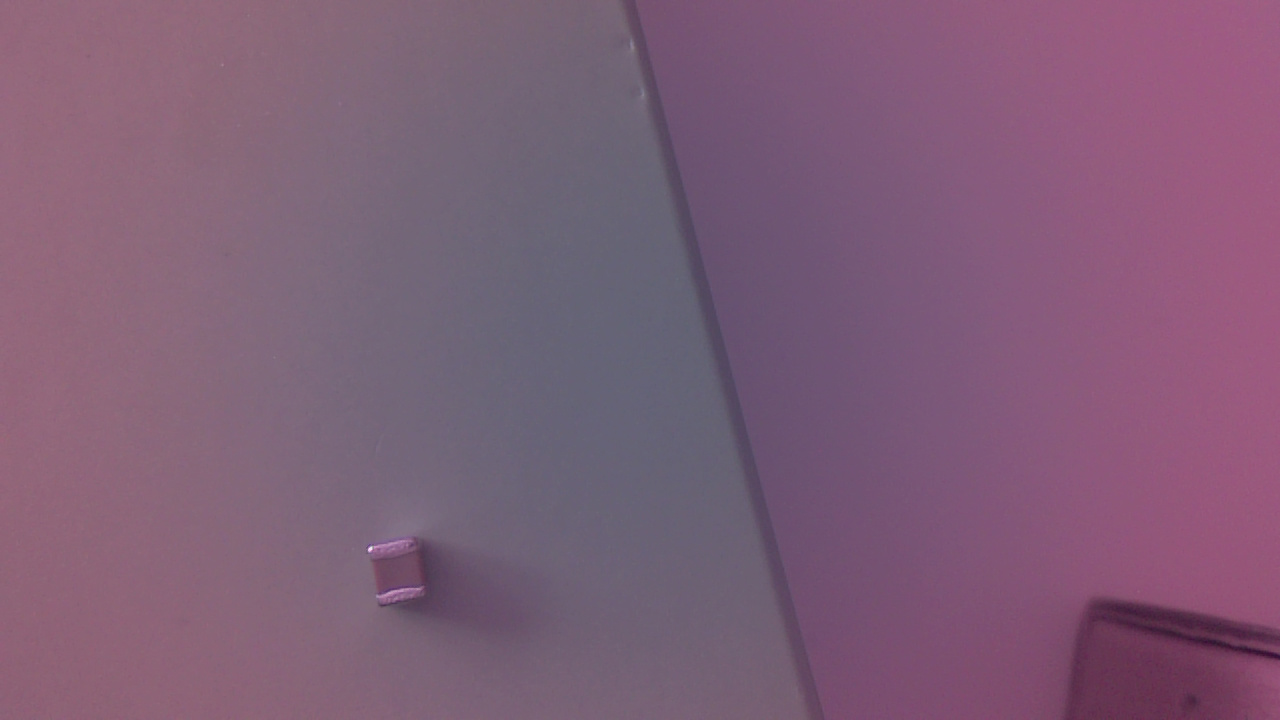Condensator: (370, 537, 437, 616)
